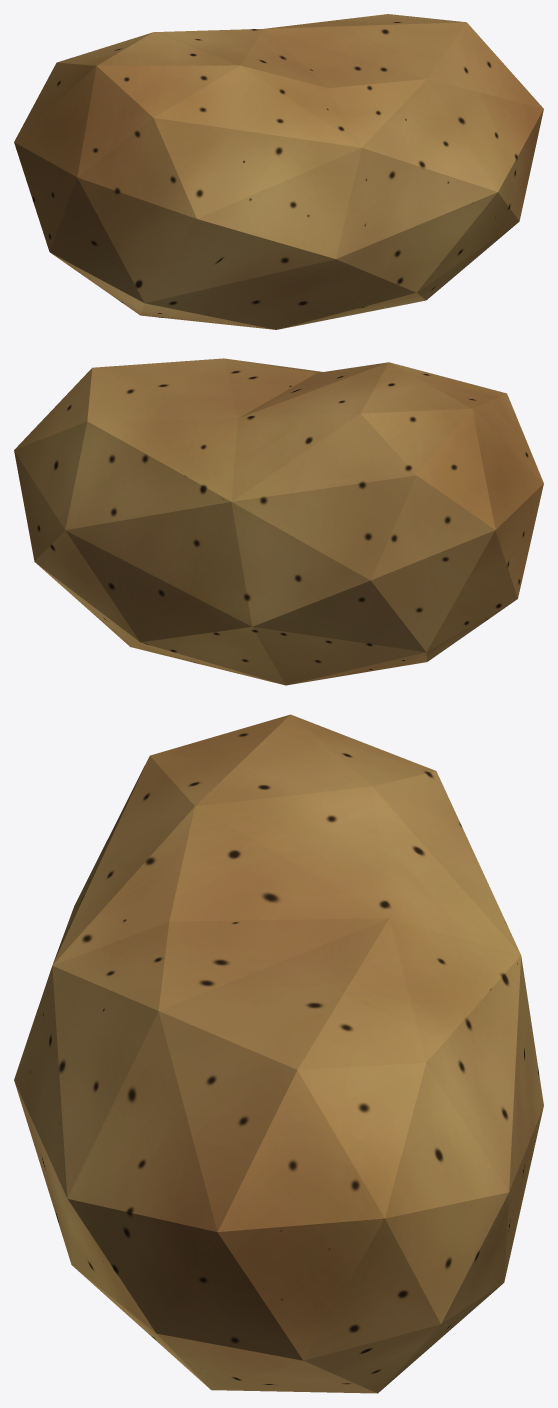
Rendered from potato.gltf.
3 views of the same model, one above another, from view 1: azimuth 30°, elevation 25°; view 2: azimuth 150°, elevation 25°; view 3: azimuth 270°, elevation 25° (orthographic). The views are drawn at different scales.
Visible parts, largest first — view 1: Potato; view 2: Potato; view 3: Potato.
Boxes of the visible parts, left/top/right/bottom form: Potato: left=14, top=14, right=543, bottom=329; Potato: left=14, top=358, right=543, bottom=685; Potato: left=14, top=714, right=543, bottom=1393.
Bounding box in the file's own units: 0.2462 × 0.15 × 0.1538.
Materials: 1 (1 with a texture image).
